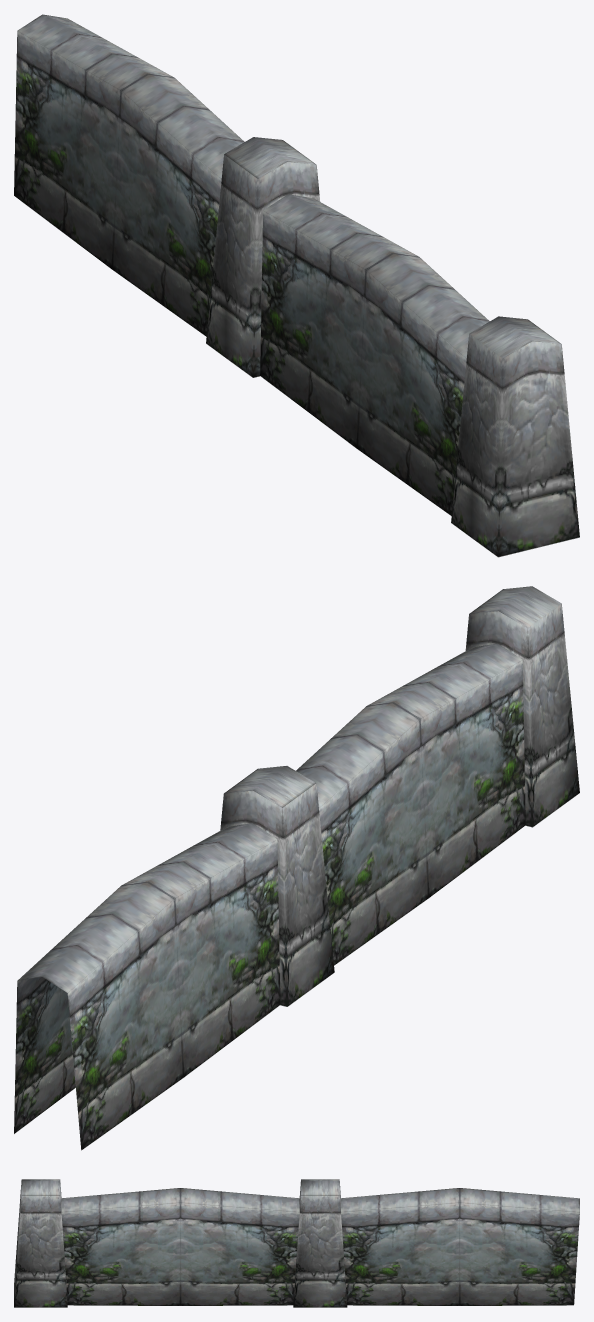
File: elwynnstonefence.glb
The picture shows the model from 3 angles, top to bottom: view 1: azimuth 30°, elevation 25°; view 2: azimuth 150°, elevation 25°; view 3: azimuth 270°, elevation 25°; orthographic projection. The views are drawn at different scales.
Size of the model in its own units: 0.5573 by 1.31 by 5.86.
Materials: 2 (2 with a texture image).
